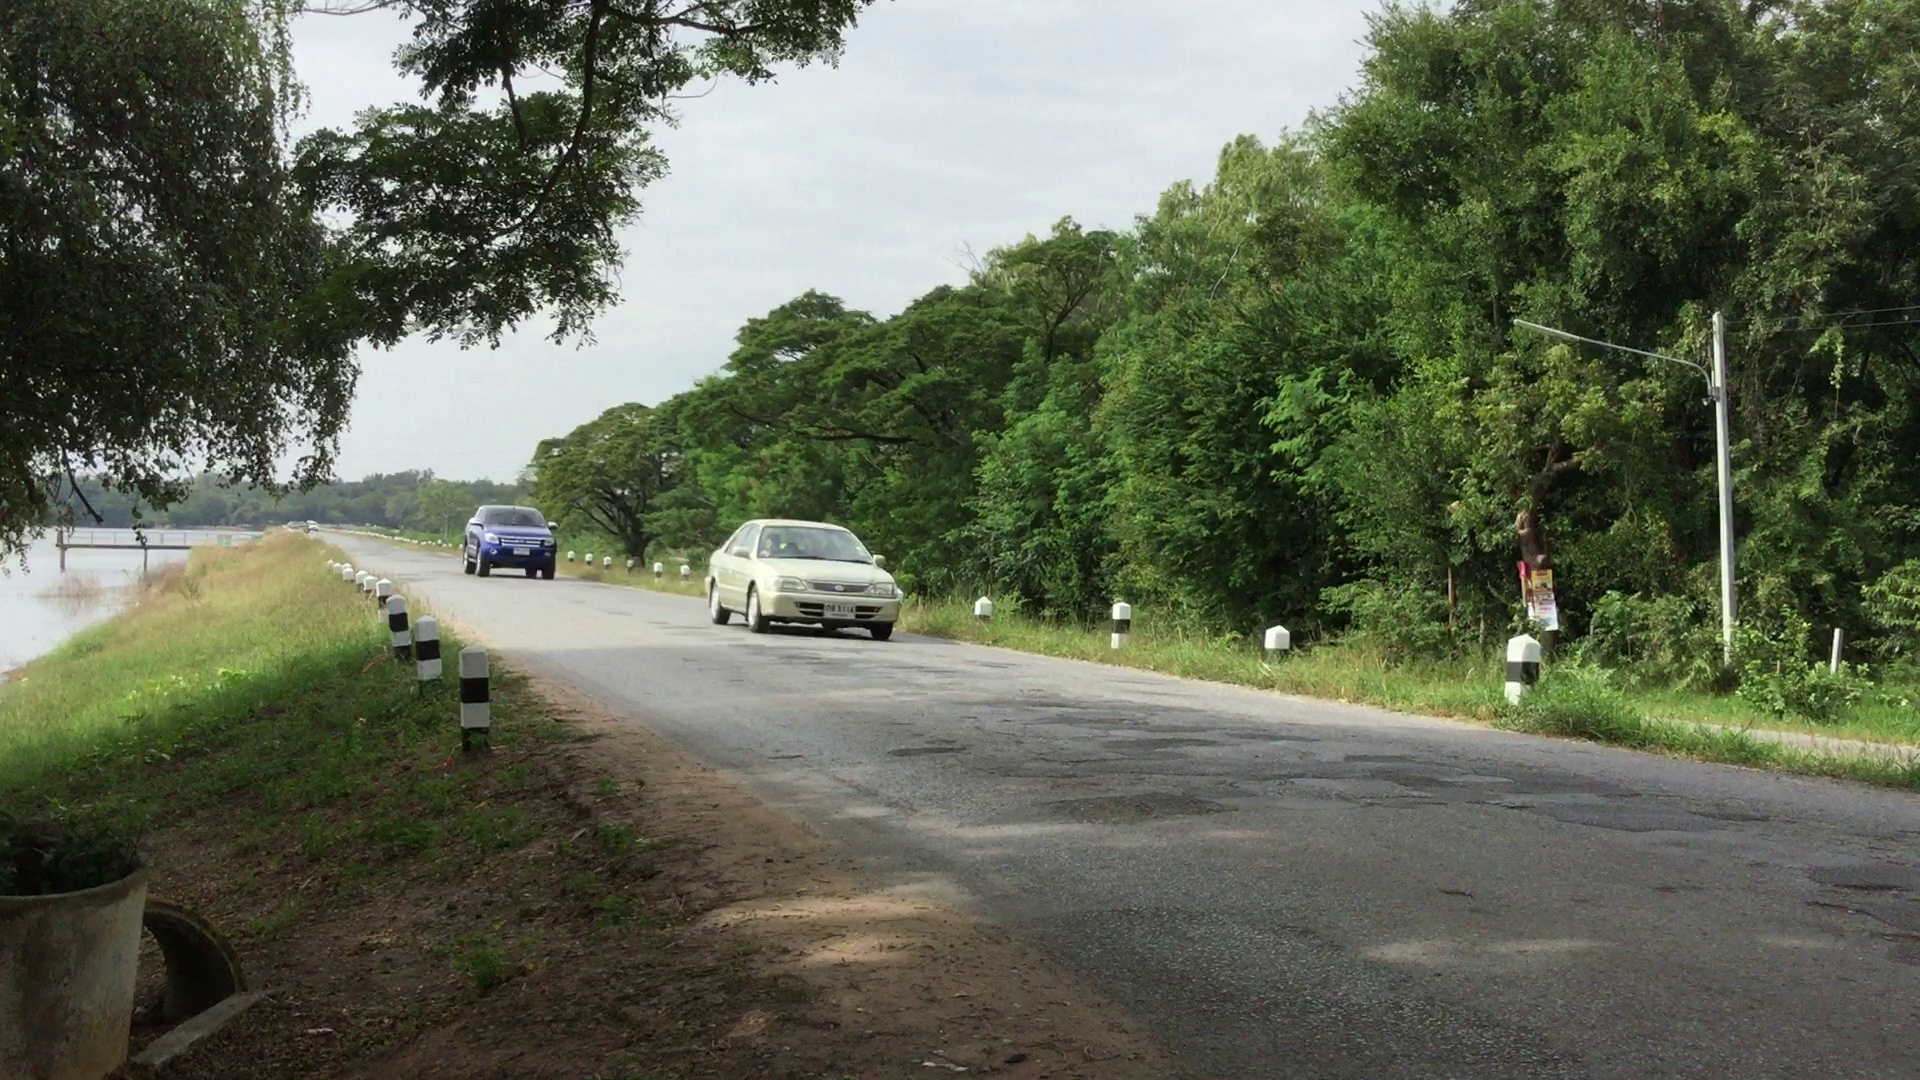car: (705, 521, 895, 629), (462, 506, 558, 574)
